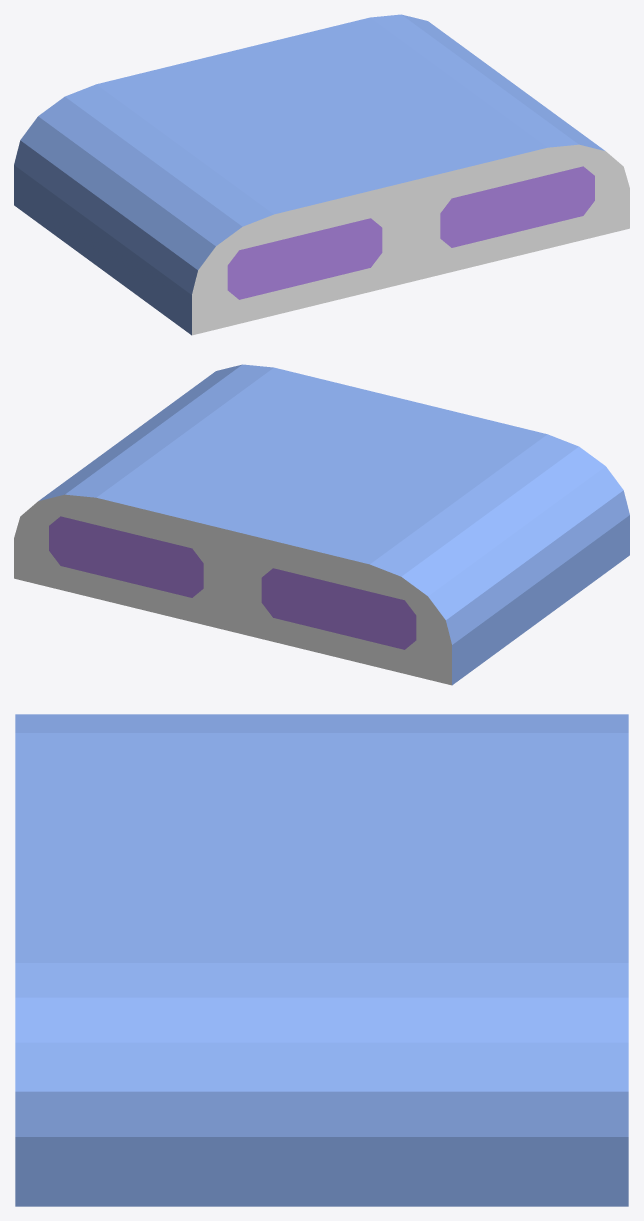
File: Building_039_a.fbx
The picture shows the model from 3 angles, top to bottom: view 1: azimuth 30°, elevation 25°; view 2: azimuth 150°, elevation 25°; view 3: azimuth 270°, elevation 25°; orthographic projection. The views are drawn at different scales.
Visible parts, largest first — view 1: Building_039_a; view 2: Building_039_a; view 3: Building_039_a.
Boxes of the visible parts, x1=… form: Building_039_a: x1=14, y1=14, x2=629, y2=335; Building_039_a: x1=14, y1=364, x2=629, y2=685; Building_039_a: x1=15, y1=714, x2=628, y2=1206.
Bounding box in the file's own units: 21.4 × 4.71 × 15.11.
